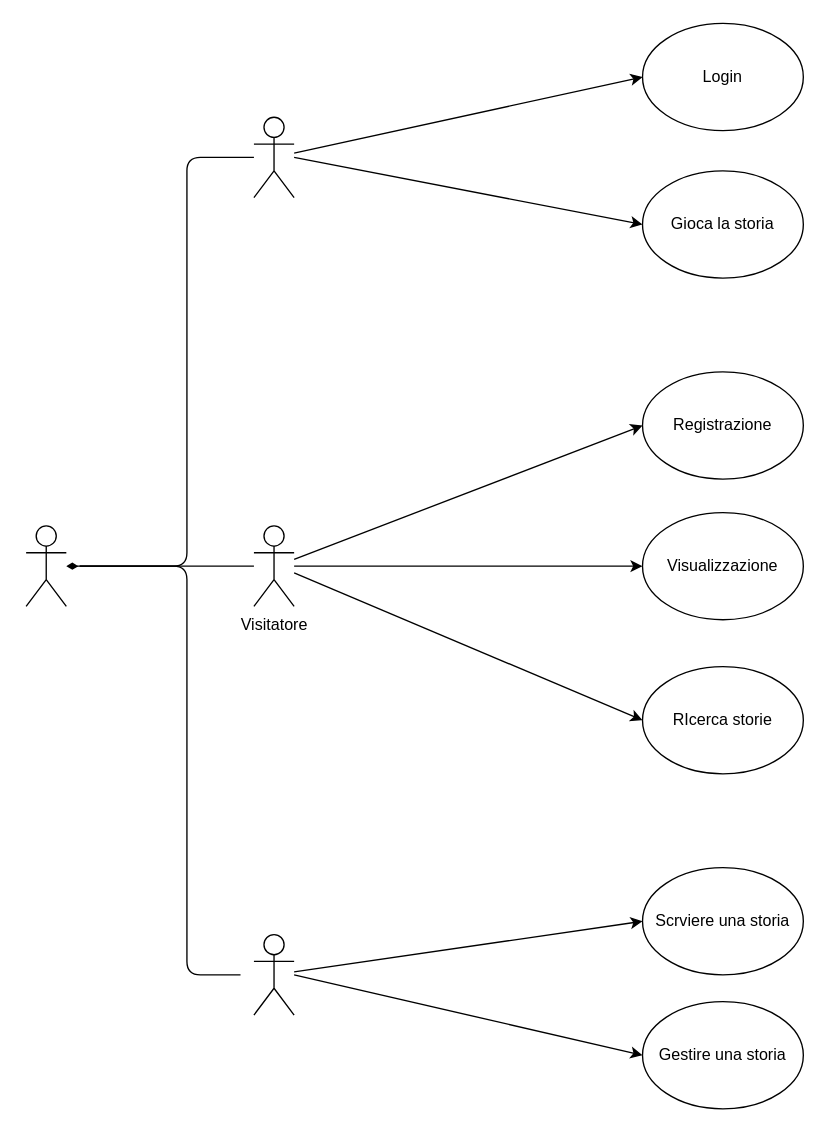
Some shapes in this 827 by 1132 pixel diagram are drawn without their labels. The shapes that lost their labels are listed below. From the top down, each one's centre as x and y in pixels, then its label:
At pixel 273 157: "Giocatore".
At pixel 45 565: "Utente".
At pixel 273 974: "Scrittore".
